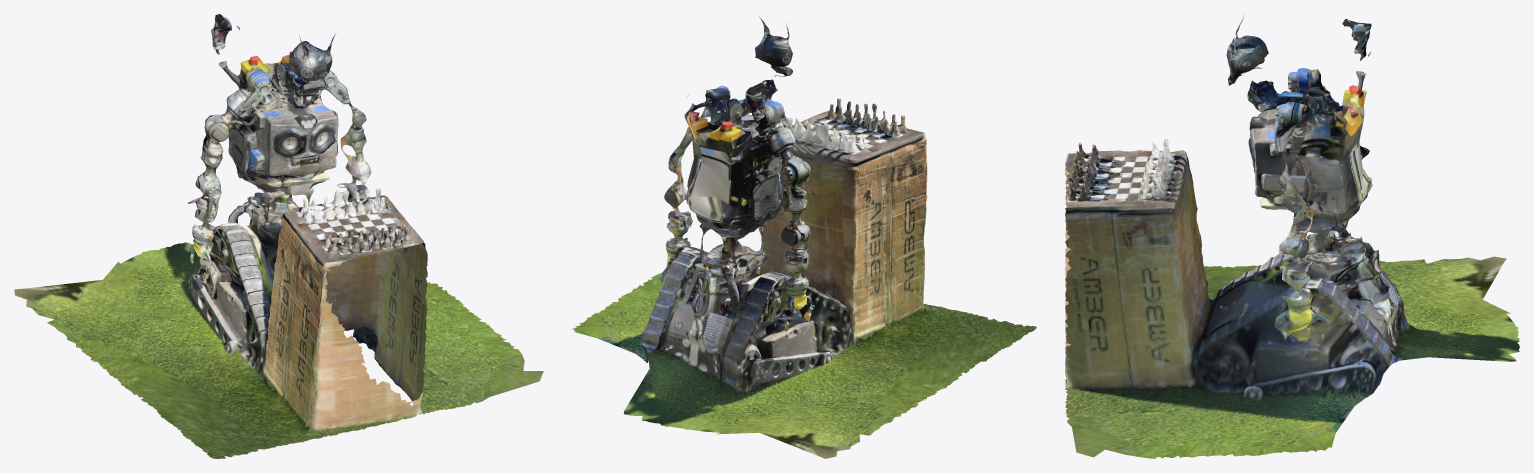
File: rob-chess-board-on-box.glb
3 renders of one model, left to right at view 1: azimuth 30°, elevation 25°; view 2: azimuth 150°, elevation 25°; view 3: azimuth 270°, elevation 25°, orthographic. The views are drawn at different scales.
Parts seen in each view (by area): view 1: ROB chess board on box; view 2: ROB chess board on box; view 3: ROB chess board on box.
Boxes of the visible parts, x1,y1,x2,y2 form: ROB chess board on box: (14, 14, 543, 458); ROB chess board on box: (572, 15, 1036, 458); ROB chess board on box: (1065, 14, 1519, 458).
Bounding box in the file's own units: 1.28 × 1.17 × 1.36.
Materials: 1 (1 with a texture image).
